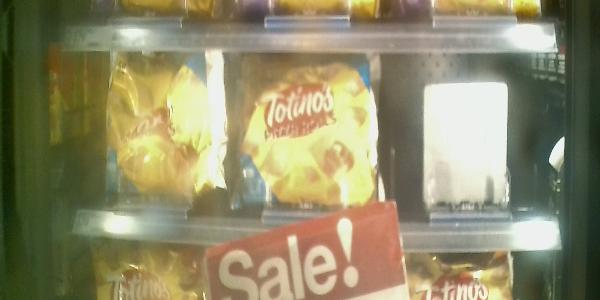icecream: (231, 49, 387, 231), (108, 45, 232, 212)
